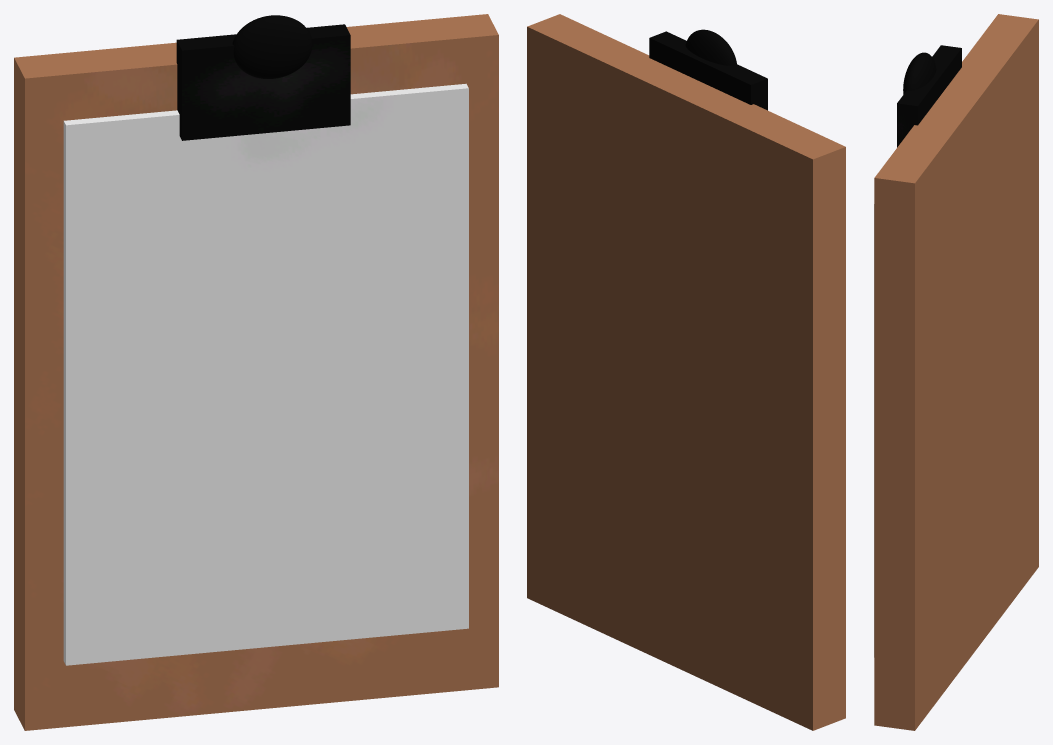
The model's file is clipboard.fbx.
The picture shows the model from 3 angles, left to right: view 1: azimuth 30°, elevation 25°; view 2: azimuth 150°, elevation 25°; view 3: azimuth 270°, elevation 25°; orthographic projection. The views are drawn at different scales.
Visible parts, largest first — view 1: root (×4); view 2: root (×3); view 3: root (×4).
Boxes of the visible parts, bbox=[...] form: root (×4): bbox=[14, 14, 498, 730]; root (×3): bbox=[527, 14, 845, 730]; root (×4): bbox=[874, 14, 1038, 730].
Bounding box in the file's own units: 0.1677 × 0.2713 × 0.0689.
Materials: 4 (4 with a texture image).
